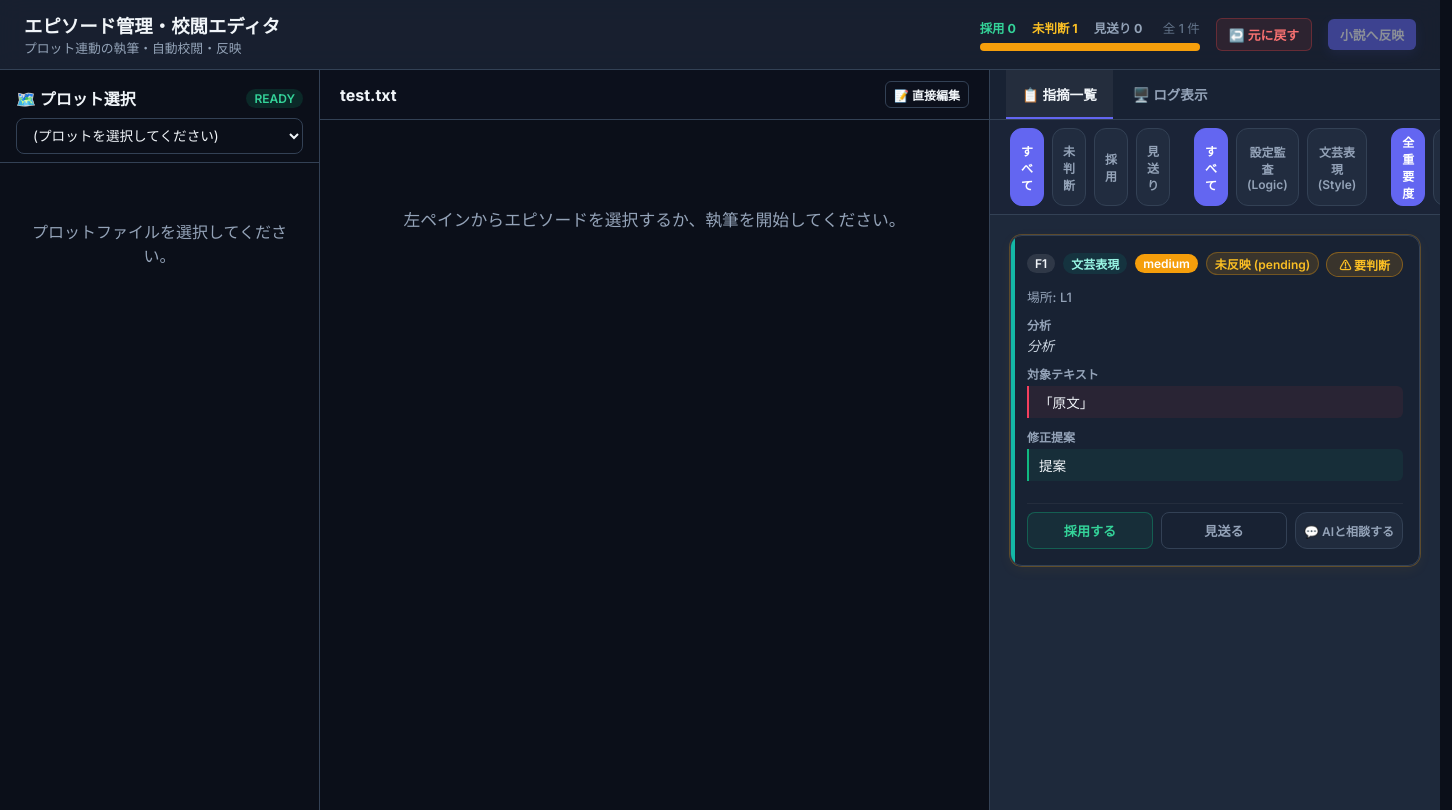
Editor decision workflow › disables the apply button with no accepted findings and shows the count once accepted
This screenshot has width=1452, height=810.
Check: the button "小説へ反映" is disabled, box [1328,19,1416,50]
Click the button "採用する": (1090, 530) [1027,512,1153,549]
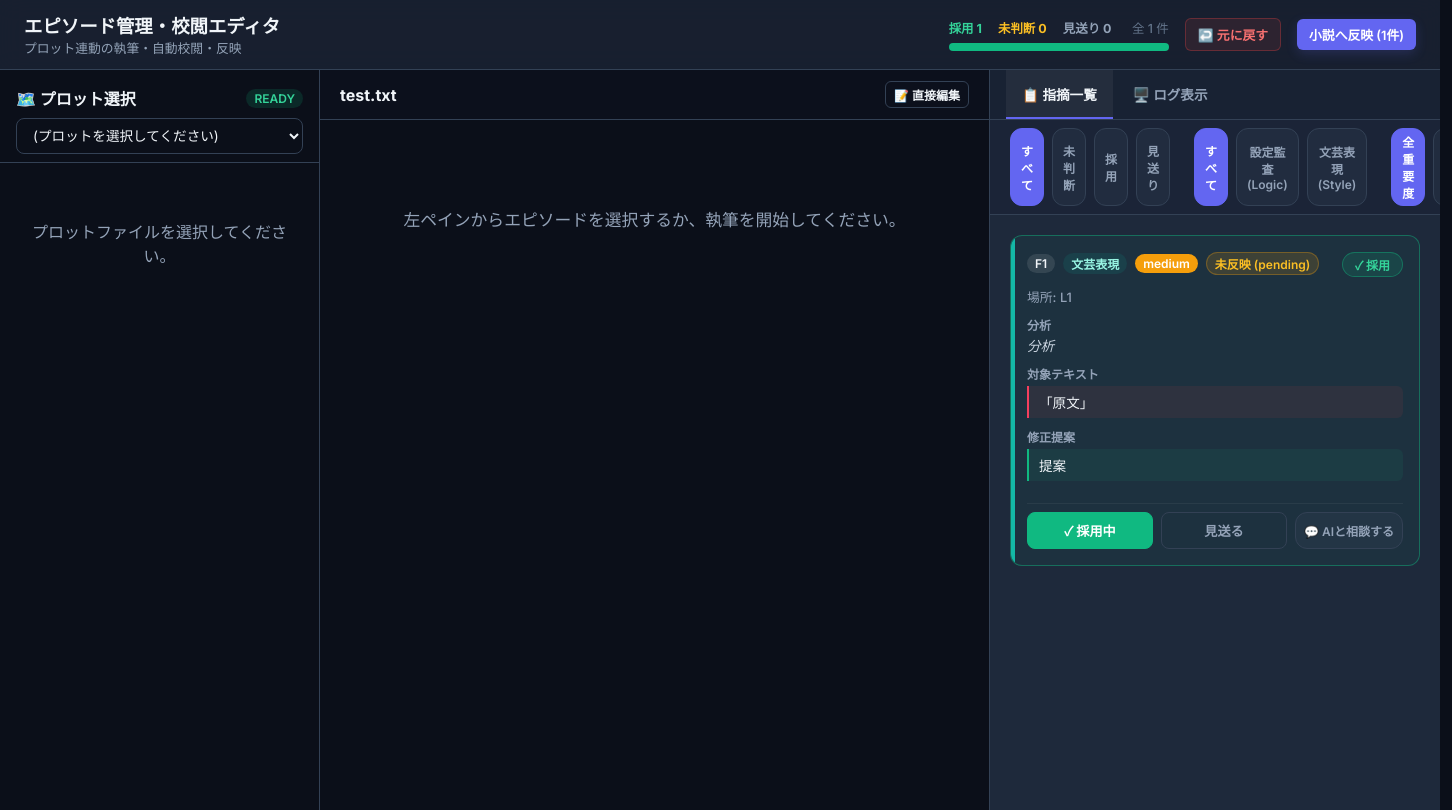
Check: the button "小説へ反映 (1件)" is enabled, box [1297,19,1416,50]
